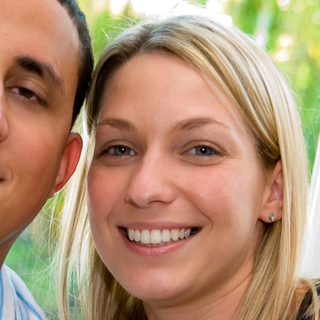eye: (179, 139, 227, 164), (99, 138, 142, 164), (6, 80, 47, 107)
